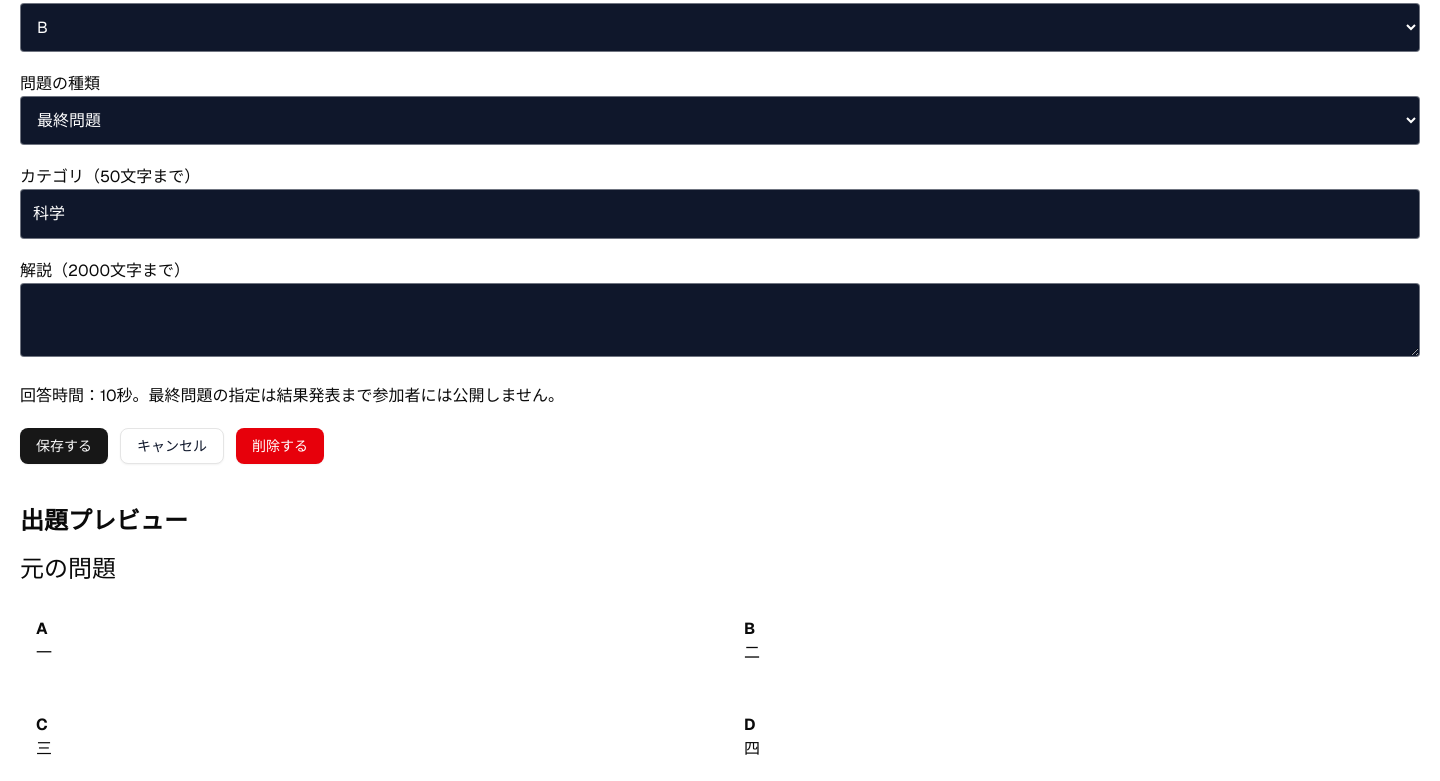
Scenario: requires an explicit deletion confirmation and retains edit data on conflict
(page scrolled)
Click the button "削除する": click(280, 446) [236, 428, 324, 464]
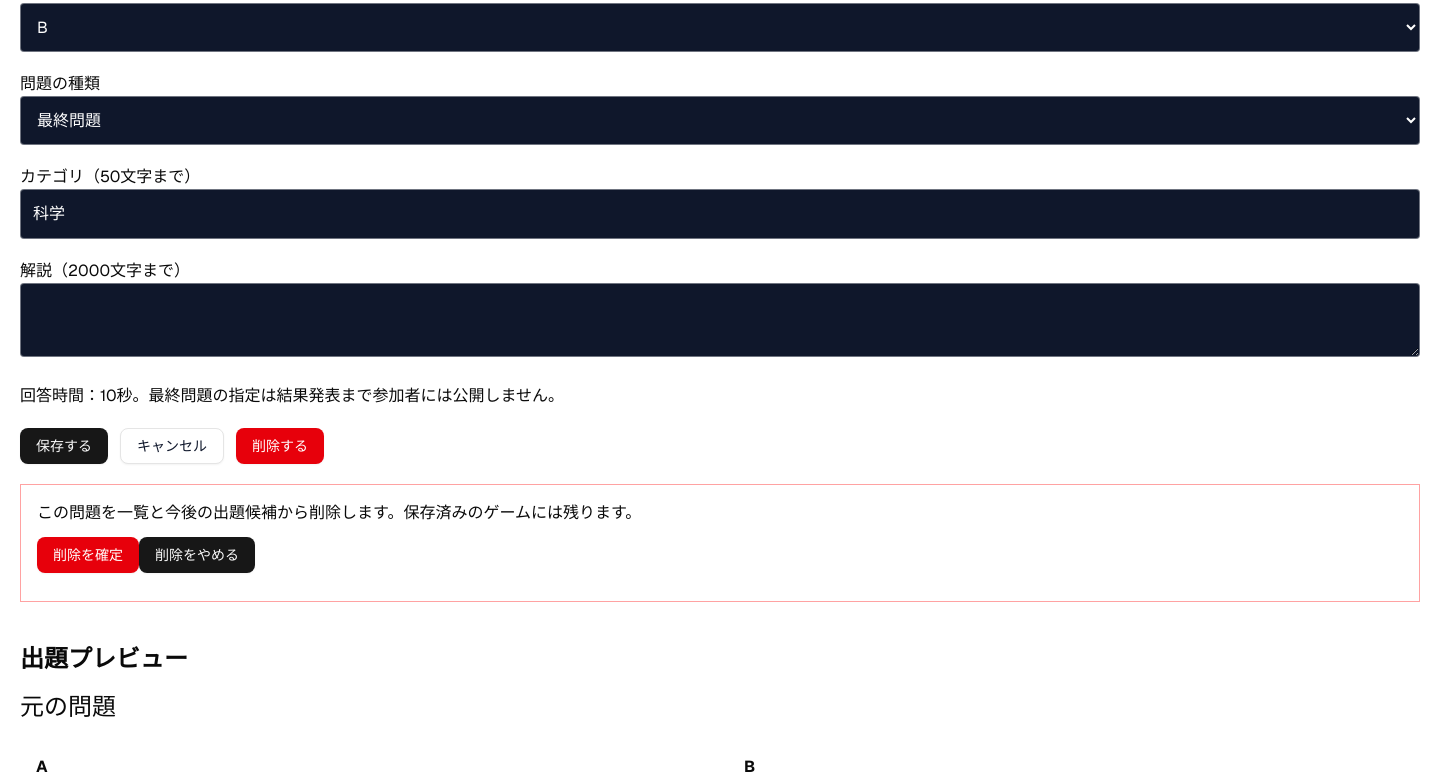
Click the button "削除を確定": click(88, 555) [37, 537, 139, 573]
(page scrolled)
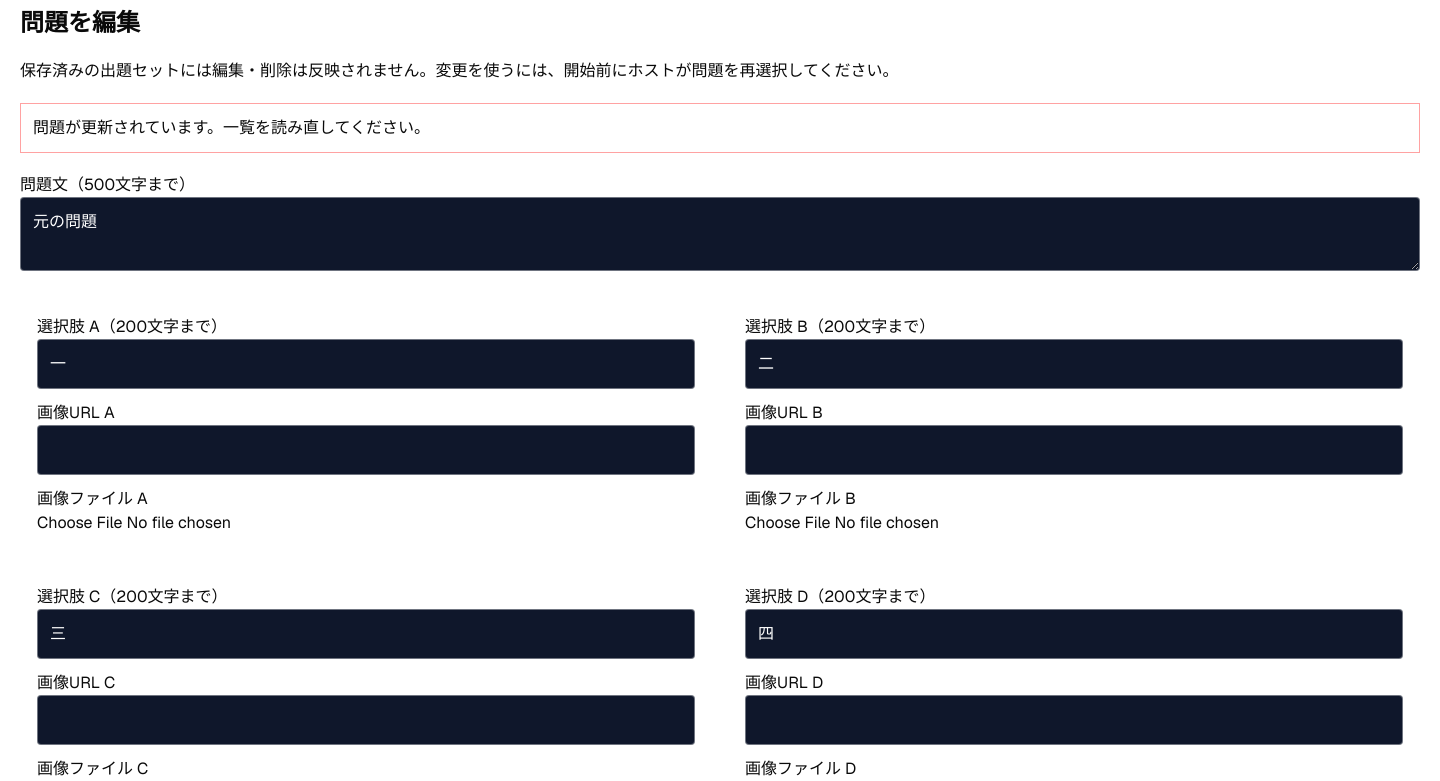
Expected: the text box labelled "問題文（500文字まで）" holds "元の問題", [20, 197, 1420, 271]
Expected: the message shows "問題が更新されています", [33, 117, 430, 138]
